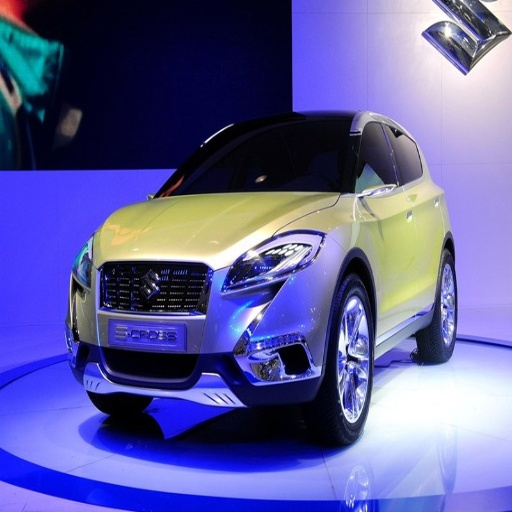front_bumper: (72, 259, 337, 404)
front_glass: (168, 121, 355, 194)
front_left_door: (359, 117, 413, 334)
